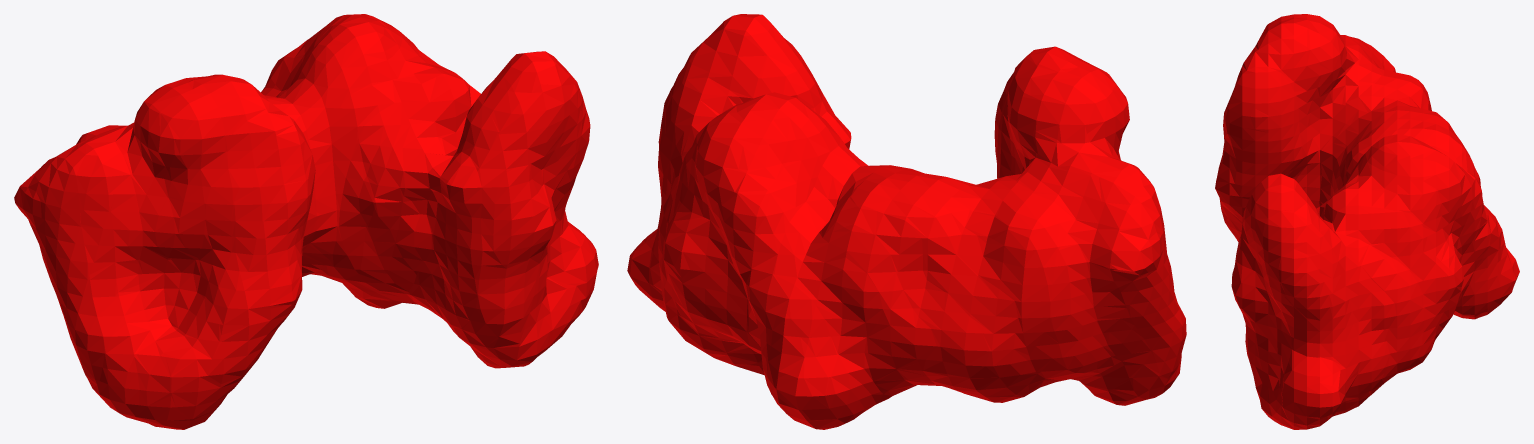
The model's file is ycjF_coarse.dae.
3 renders of one model, left to right at view 1: azimuth 30°, elevation 25°; view 2: azimuth 150°, elevation 25°; view 3: azimuth 270°, elevation 25°, orthographic. The views are drawn at different scales.
Visible parts, largest first — view 1: ycjF; view 2: ycjF; view 3: ycjF.
Part boxes in pixels (<box>): ycjF: <box>14,14,598,429</box>; ycjF: <box>627,14,1186,429</box>; ycjF: <box>1215,14,1519,429</box>.
Size of the model in its own units: 86.5 by 55.73 by 52.77.
